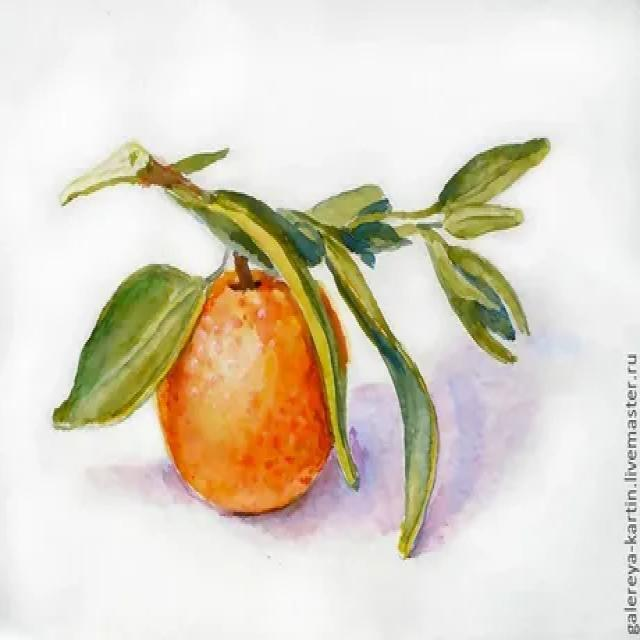orange: (156, 256, 354, 526)
